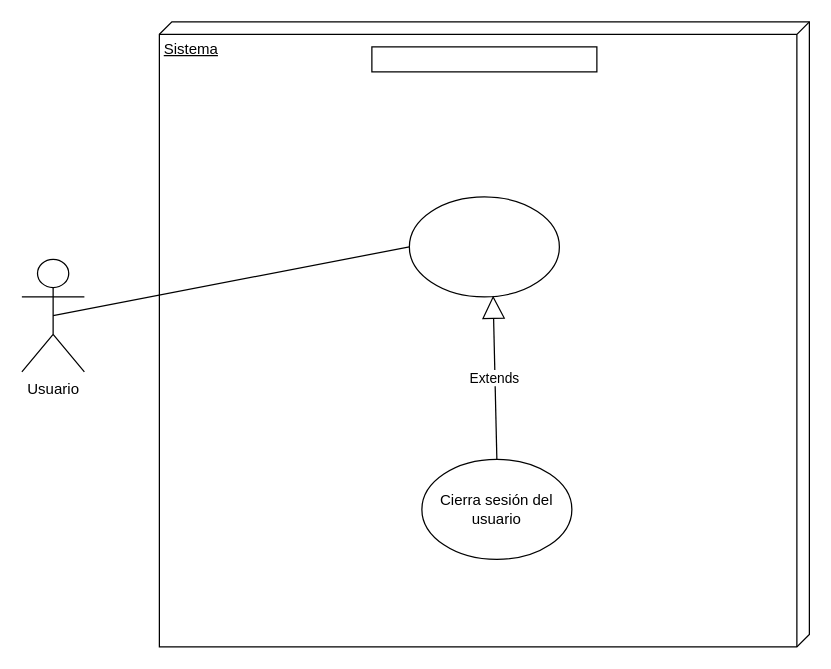
Image size: 831x669. Some labels were removed from this diagram. Here are the shapes that lost their labels. From the top down, the centre of each, then its label:
At point 484,59: "Cerrar sesión".
At point 483,246: "Presiona botón cerrar sesión".
